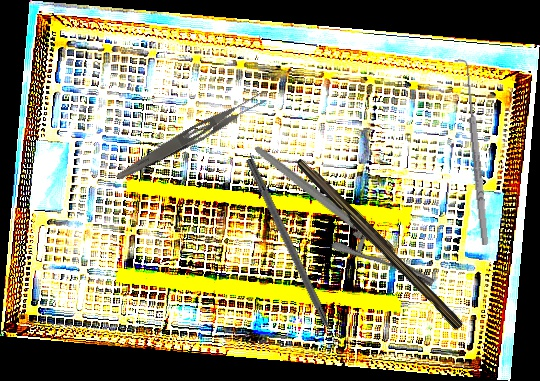Dressing Forceps: (113, 86, 271, 189)
Hook Surgical: (243, 157, 348, 362), (453, 58, 492, 246)
Needle Holder: (254, 104, 438, 328)
Scalpel Handle: (292, 154, 469, 331)
